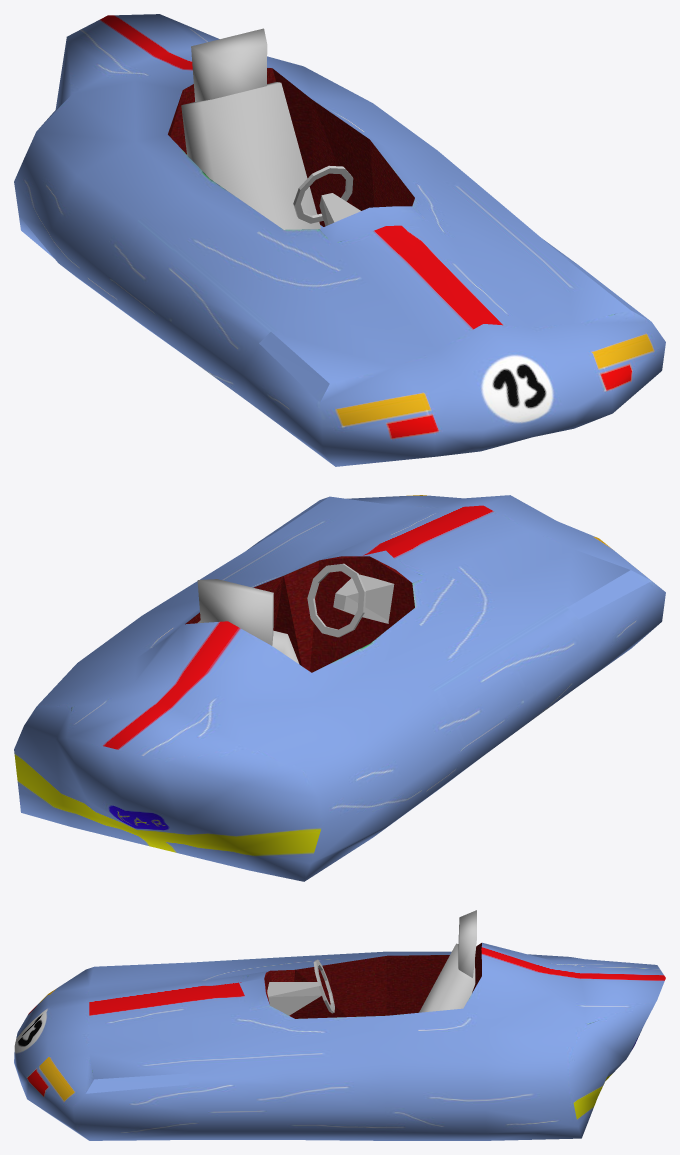
File: auto futu.FBX
3 views of the same model, one above another, from view 1: azimuth 30°, elevation 25°; view 2: azimuth 150°, elevation 25°; view 3: azimuth 270°, elevation 25° (orthographic). The views are drawn at different scales.
Visible parts, largest first — view 1: Box006, Silla, i_wheel, Volante; view 2: Box006, Silla, Volante, i_wheel; view 3: Box006, Silla, Volante, i_wheel.
Part boxes in pixels (x1,y1,x2,y2): Box006: (14,14,665,466); Silla: (181,28,320,229); i_wheel: (293,165,353,223); Volante: (319,193,360,226); Box006: (14,495,665,881); Silla: (197,579,299,664); Volante: (333,574,394,623); i_wheel: (307,563,366,637); Box006: (14,942,665,1140); Silla: (419,910,476,1012); Volante: (267,982,321,1015); i_wheel: (313,959,334,1013).
Size of the model in its own units: 18.92 by 11.31 by 39.48.
Materials: 2 (1 with a texture image).
